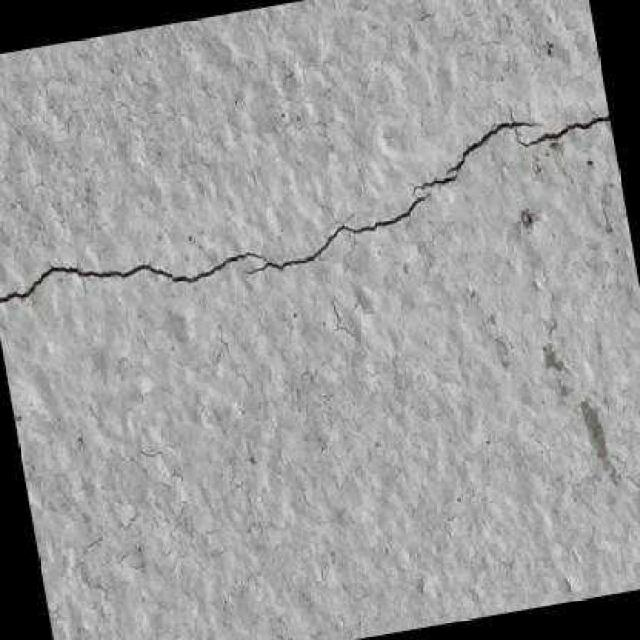D00: (0, 191, 426, 303), (408, 117, 533, 189), (515, 107, 609, 149)
